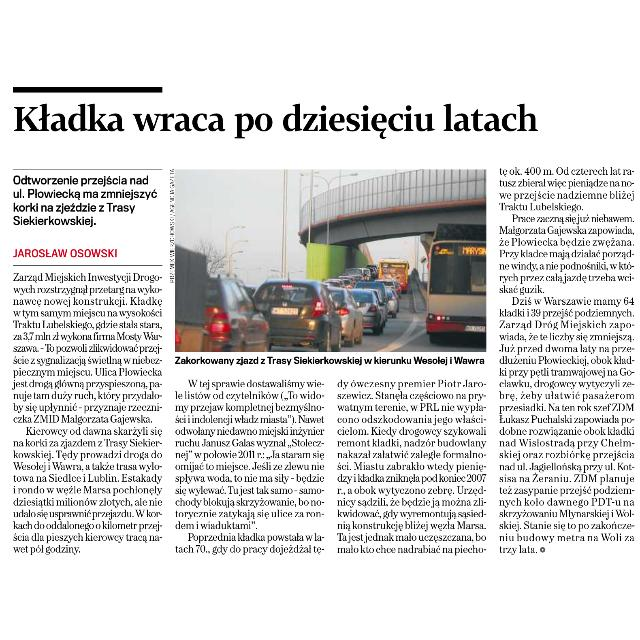author: (10, 242, 126, 262)
body: (496, 162, 640, 556), (9, 268, 168, 556), (332, 376, 490, 556), (172, 373, 328, 555)
caption: (172, 352, 486, 368)
image: (170, 164, 490, 354)
lead: (8, 171, 164, 227)
title: (9, 94, 548, 142)
